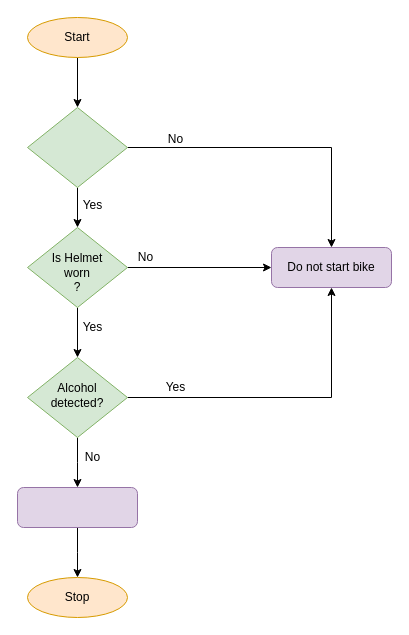
The diagram is 409 pixels wide and 635 high, and some of its shapes have lost their labels. The centre of each missing label's shape, as x and y in pixels:
"Rider Authentication ?" belongs at pixel 77 147.
"Start vehicle" belongs at pixel 77 507.
